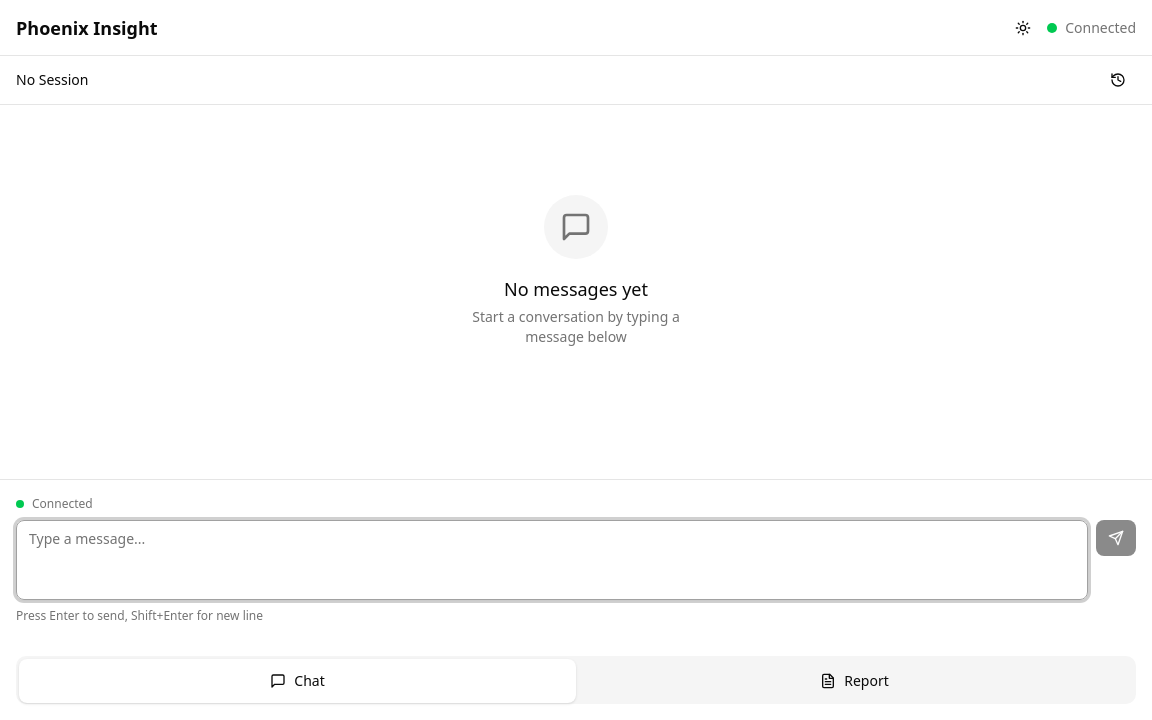
Test: App responsive layout › Mobile layout (< 768px) › should switch to Report panel when Report tab is clicked
The width and height of the screenshot is (1152, 720).
Click on Report tab
Click the tab "Report" at (854, 681), box top-left (576, 659), bottom-right (1133, 703)
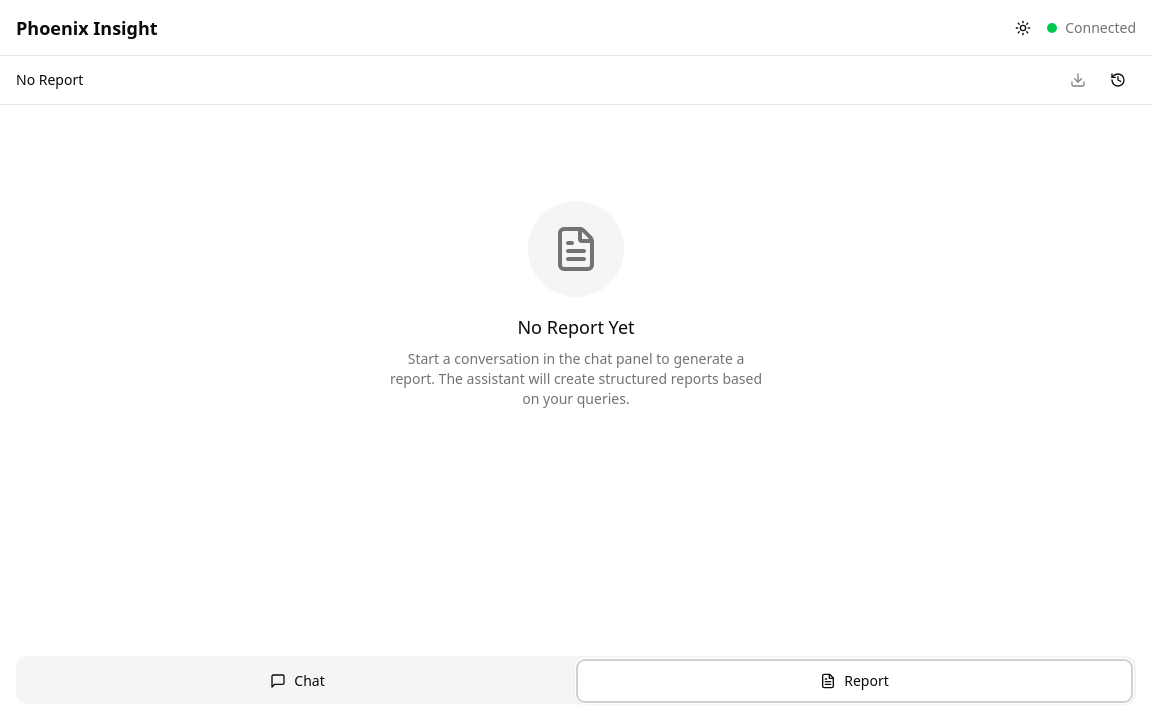
Check: the text "No Report" is shown, box top-left (16, 70), bottom-right (83, 90)
